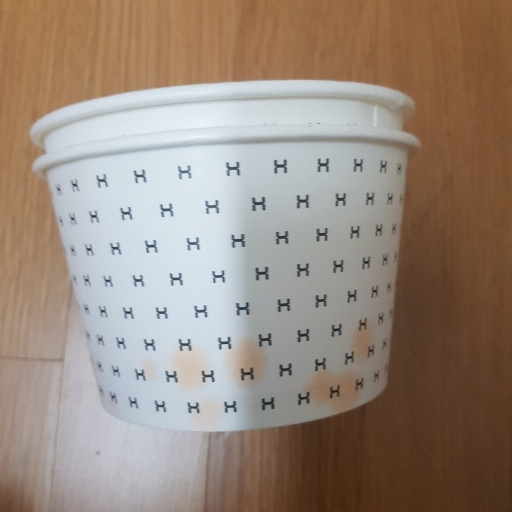Paper_1: (30, 76, 419, 428)
